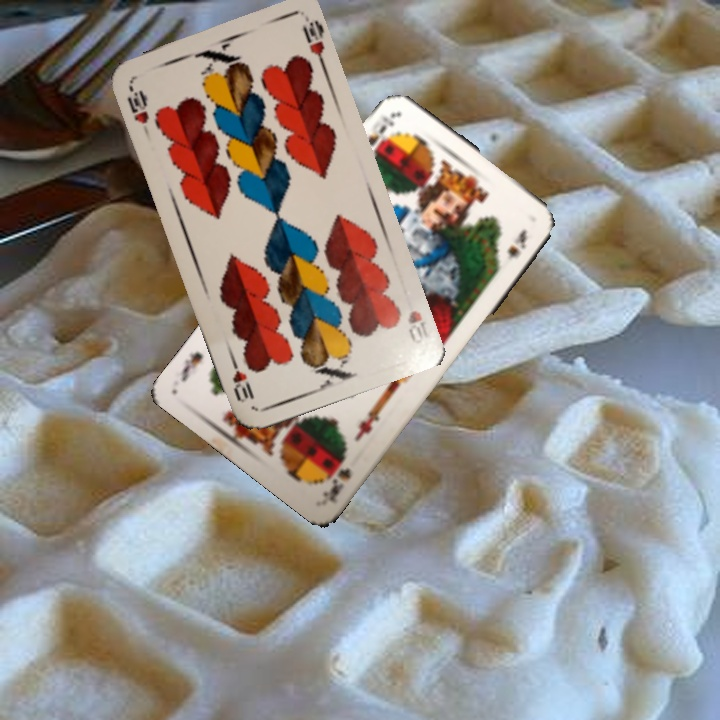H10: (123, 81, 152, 138), (403, 306, 431, 347)
SK: (318, 452, 354, 506), (362, 111, 397, 149)
